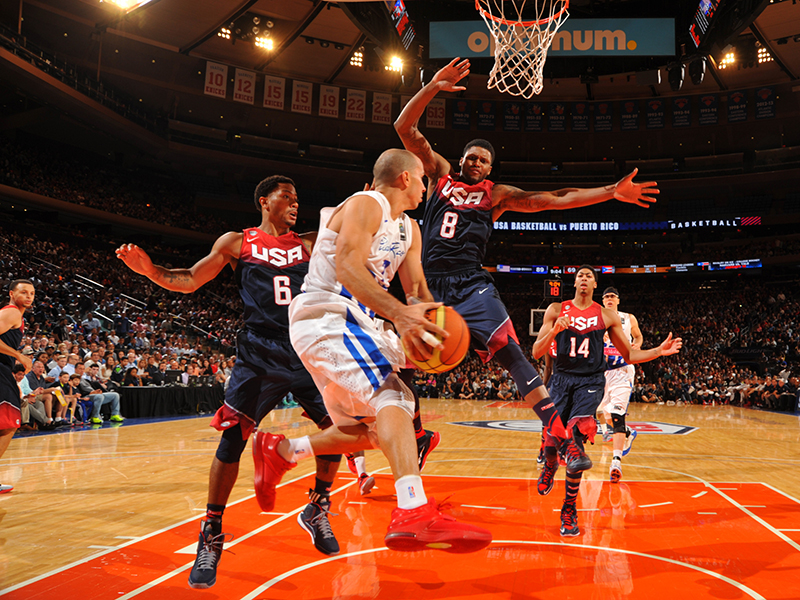pass: (286, 136, 491, 555)
run: (532, 256, 696, 552)
